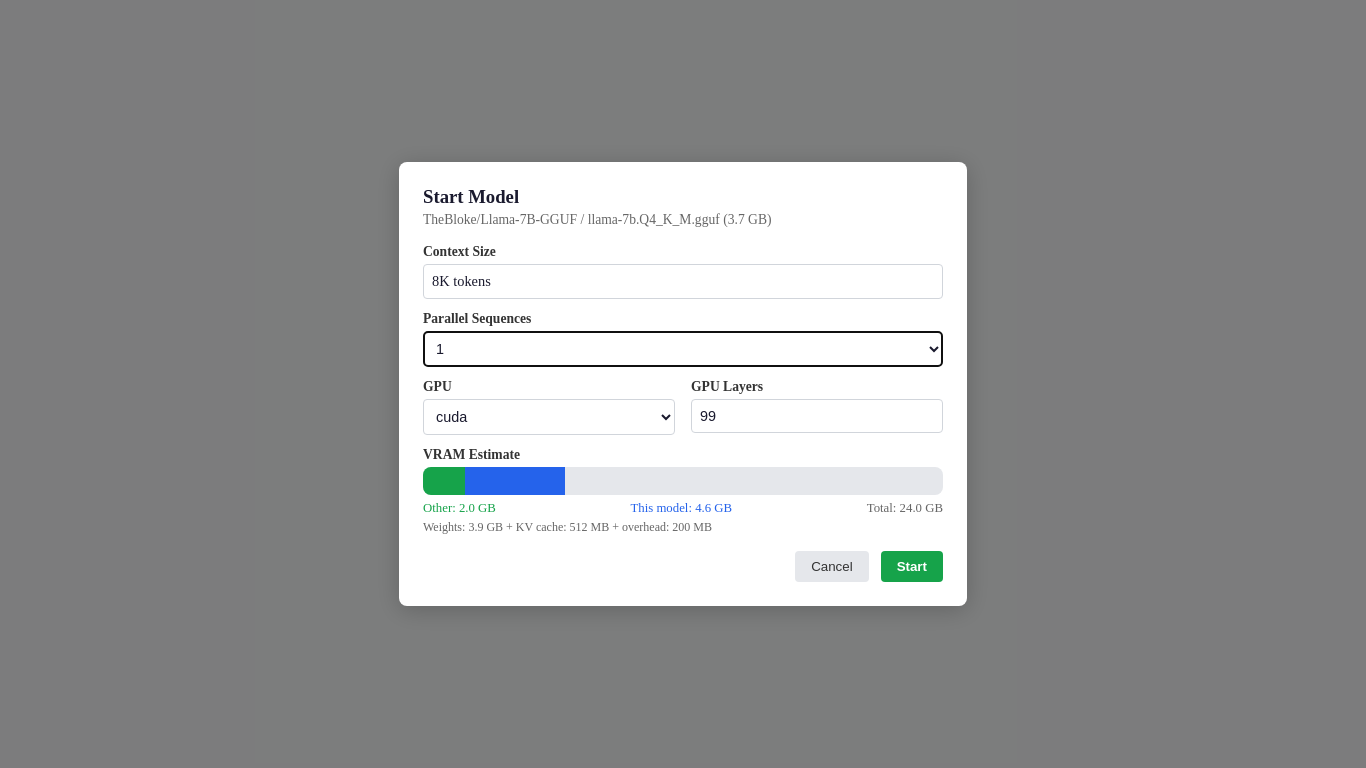
StartModelDialog › shows start error when startContainer fails
Click the button "Start" at (912, 566), box top-left (881, 551), bottom-right (943, 582)
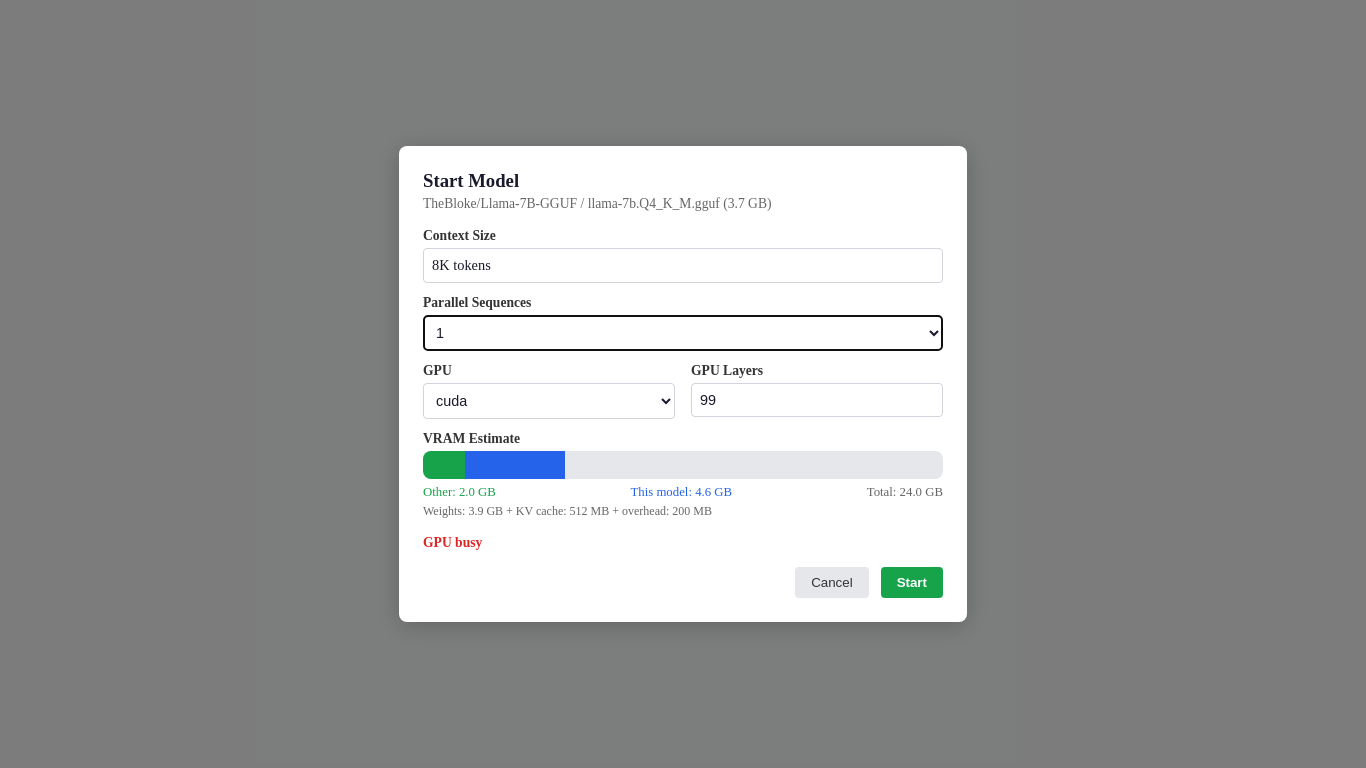
Expected: the text "GPU busy" is shown, top-left (423, 535), bottom-right (482, 550)
